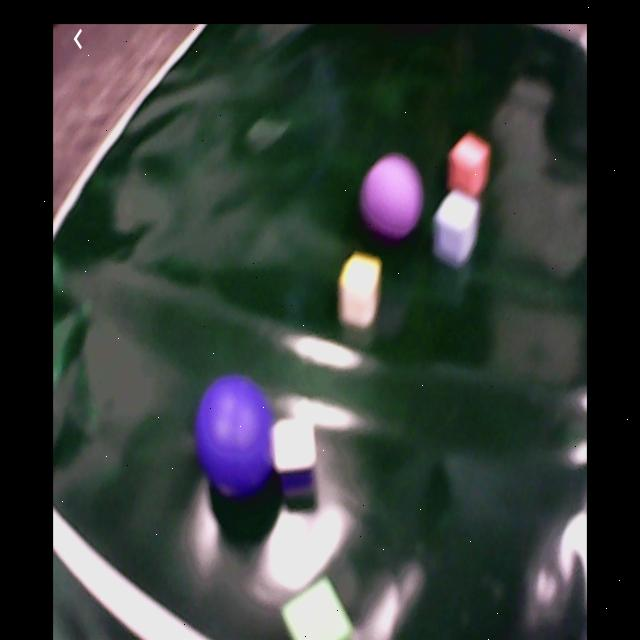ball: (199, 378, 270, 493), (364, 153, 422, 240)
